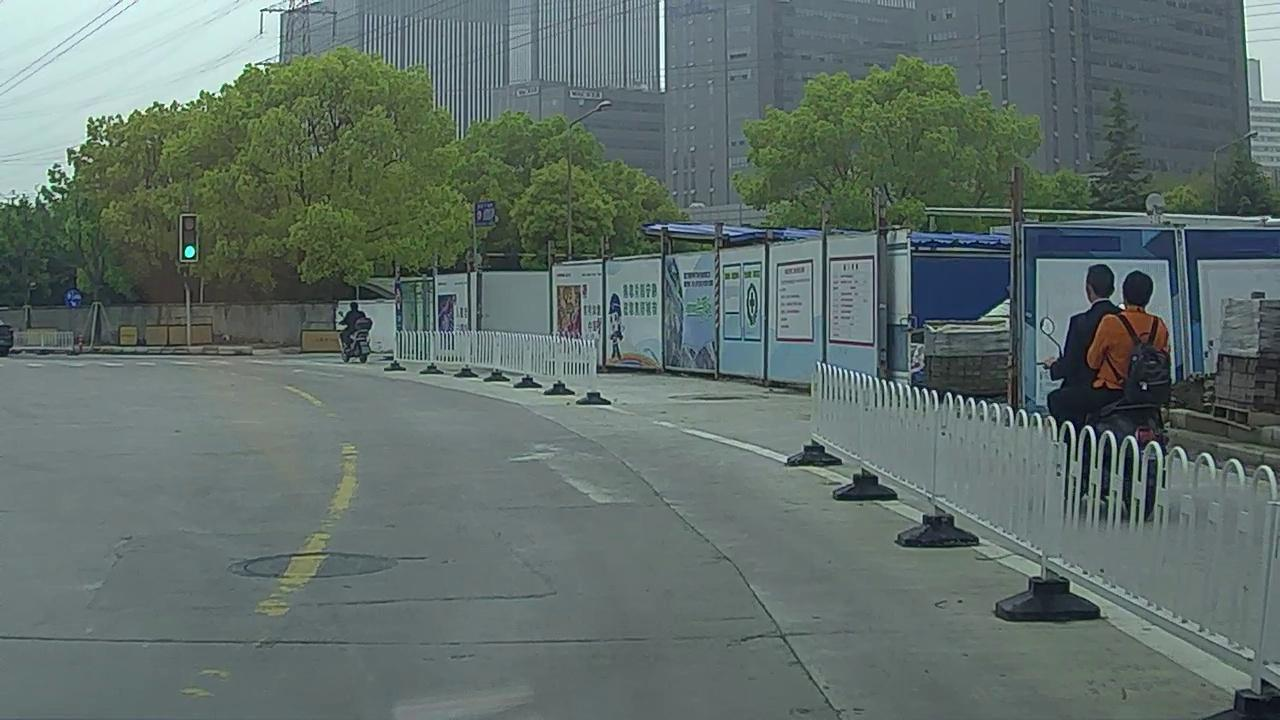traffic_light: (183, 215, 196, 258)
